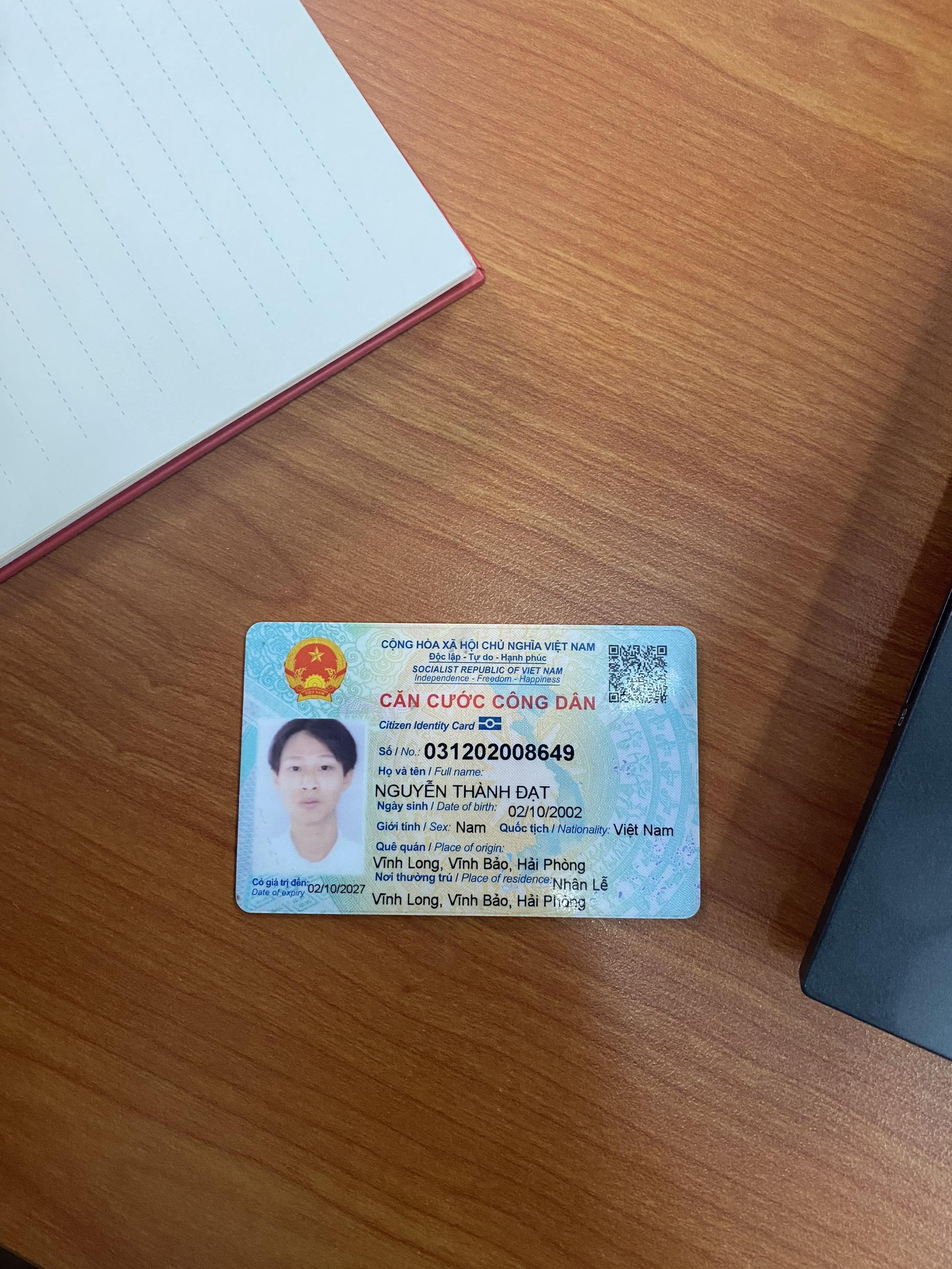bottom_left: (219, 893, 260, 923)
bottom_right: (684, 893, 710, 923)
image_person: (252, 716, 366, 884)
top_left: (226, 603, 273, 649)
top_right: (680, 614, 708, 657)
